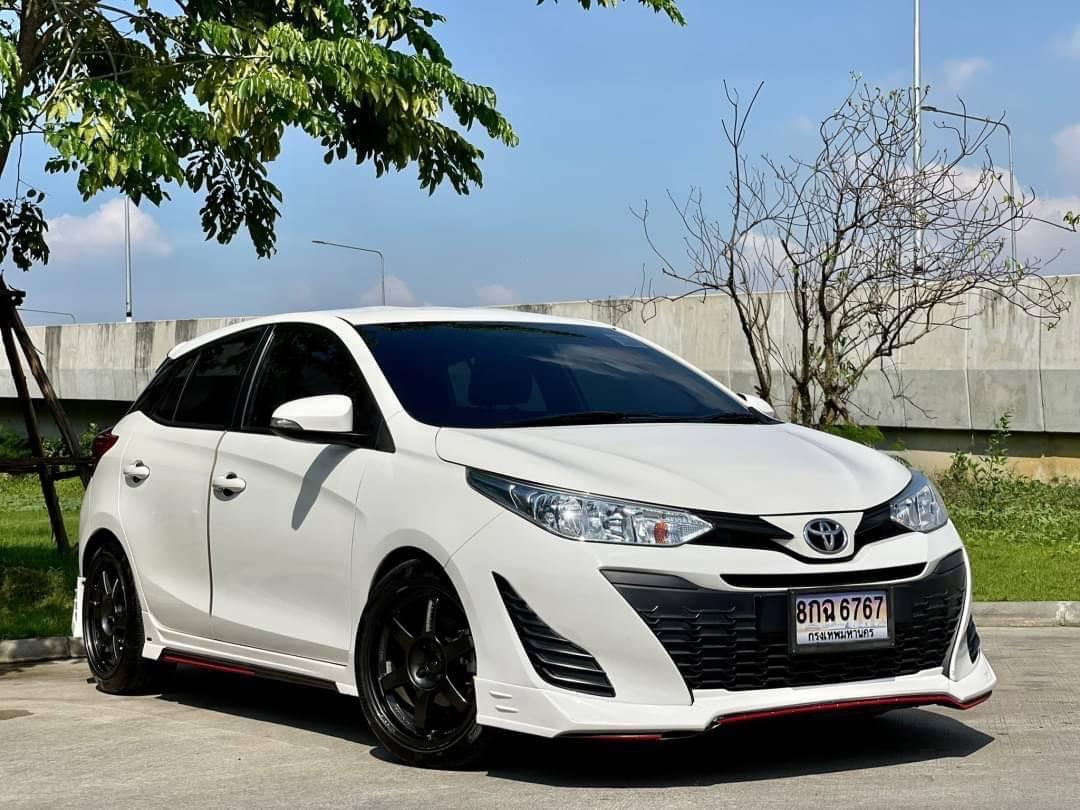license-plate: (784, 581, 899, 650)
